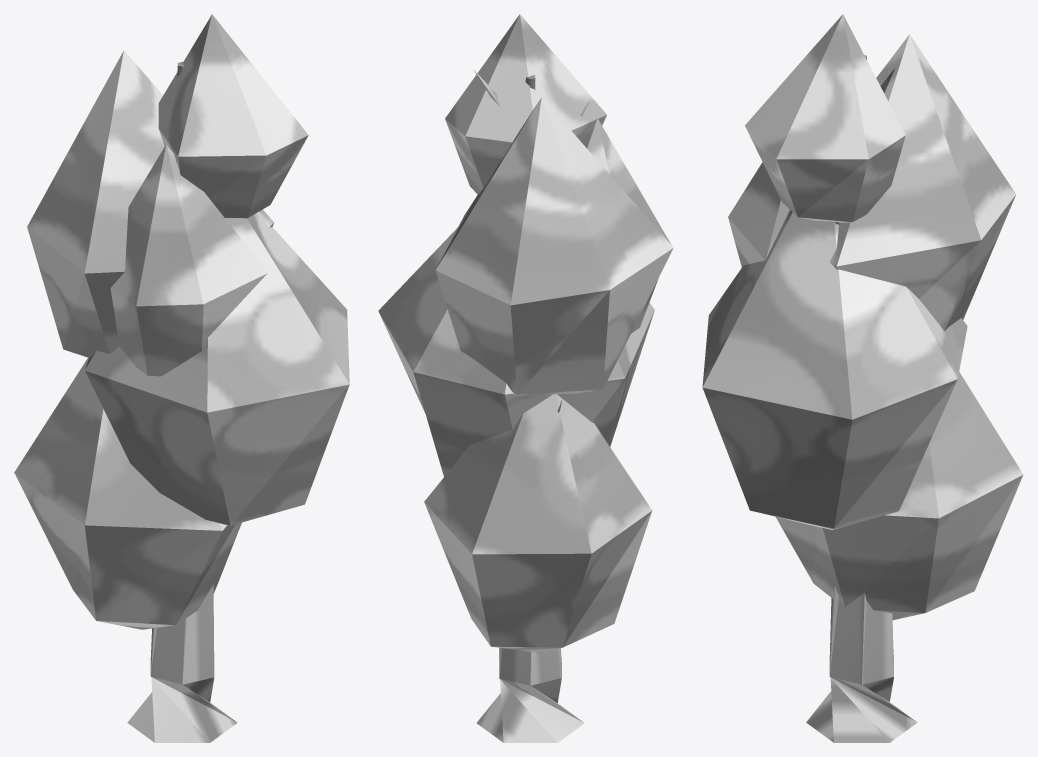
File: tree_poplar_2.obj
The picture shows the model from 3 angles, left to right: view 1: azimuth 30°, elevation 25°; view 2: azimuth 150°, elevation 25°; view 3: azimuth 270°, elevation 25°; orthographic projection. The views are drawn at different scales.
Parts seen in each view (by area): view 1: tree_poplar_2; view 2: tree_poplar_2; view 3: tree_poplar_2.
Part boxes in pixels (x1,y1,x2,y2): tree_poplar_2: (14,14,349,742); tree_poplar_2: (378,14,673,742); tree_poplar_2: (702,14,1023,742).
Bounding box in the file's own units: 0.442 × 1.07 × 0.4313.
